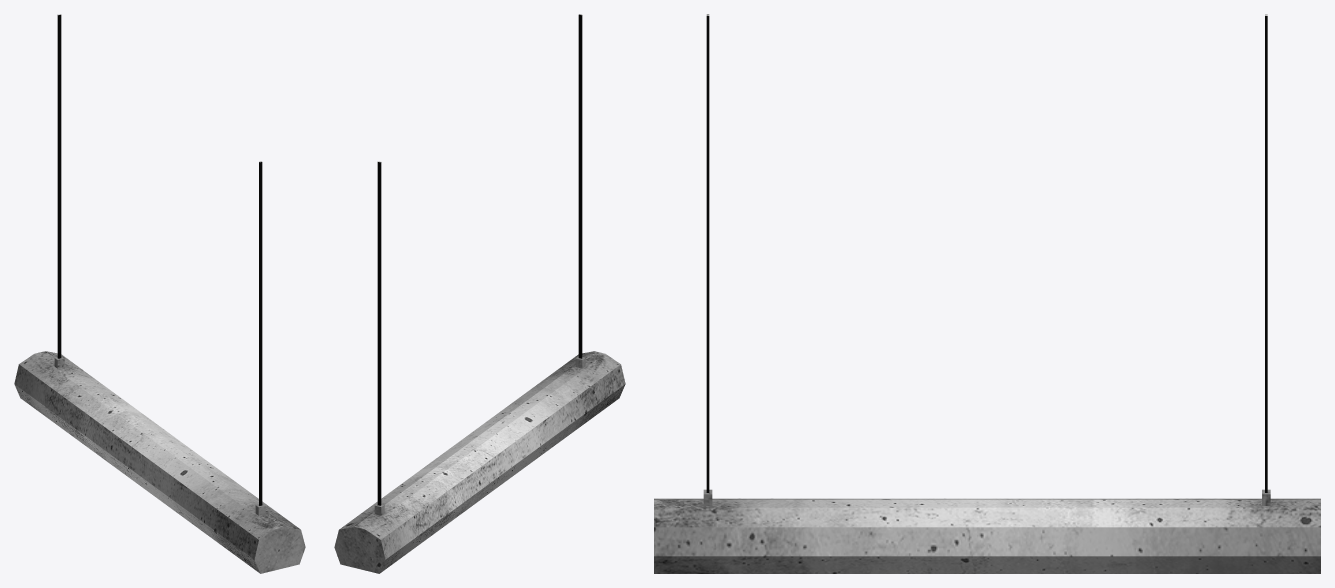
File: overhead_light_scaled.FBX
3 views of the same model, side by side, from view 1: azimuth 30°, elevation 25°; view 2: azimuth 150°, elevation 25°; view 3: azimuth 270°, elevation 25° (orthographic). The views are drawn at different scales.
Parts seen in each view (by area): view 1: Box001; view 2: Box001; view 3: Box001.
Boxes of the visible parts, <box> form: Box001: <box>14,14,305,573</box>; Box001: <box>334,14,625,573</box>; Box001: <box>654,14,1320,573</box>.
Bounding box in the file's own units: 35.96 × 264 × 292.
Materials: 1 (1 with a texture image).
